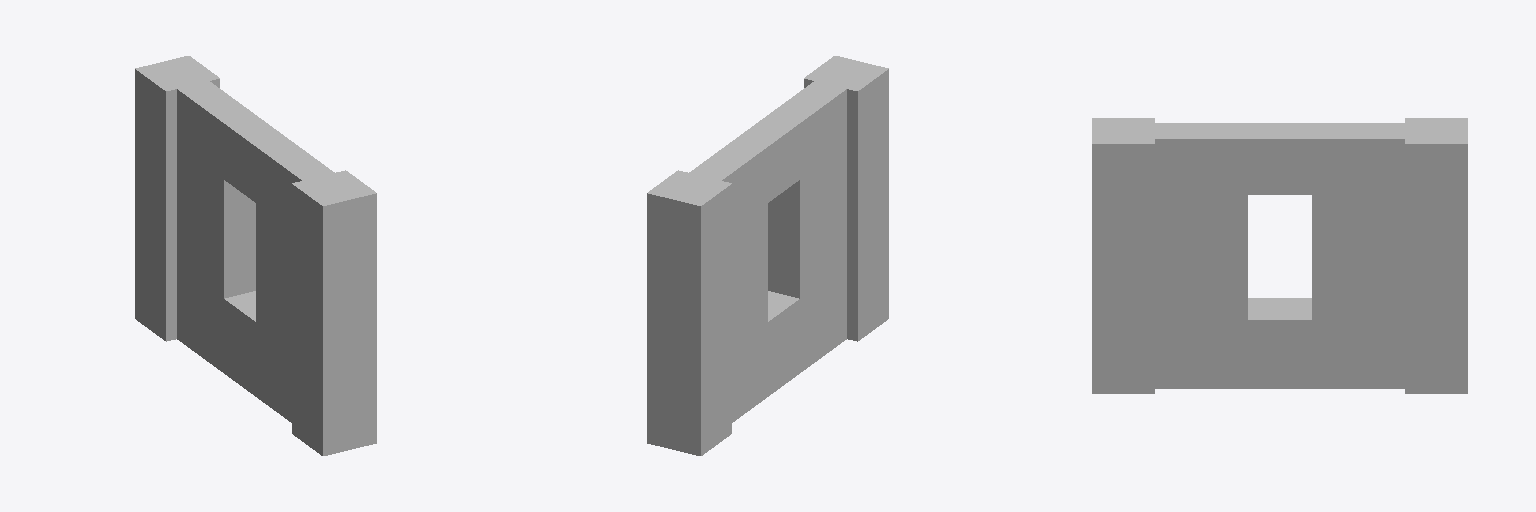
The model's file is Grey_Window_Square_Sill_01.obj.
The picture shows the model from 3 angles: view 1: azimuth 30°, elevation 25°; view 2: azimuth 150°, elevation 25°; view 3: azimuth 270°, elevation 25°; orthographic projection.
Visible parts, largest first — view 1: Mesh1 Grey_Window_Square_Sill Model; view 2: Mesh1 Grey_Window_Square_Sill Model; view 3: Mesh1 Grey_Window_Square_Sill Model.
Boxes of the visible parts, x1,y1,x2,y2 form: Mesh1 Grey_Window_Square_Sill Model: [135, 56, 376, 455]; Mesh1 Grey_Window_Square_Sill Model: [647, 56, 888, 455]; Mesh1 Grey_Window_Square_Sill Model: [1092, 118, 1467, 393].
Bounding box in the file's own units: 0.5 × 2.2 × 3.